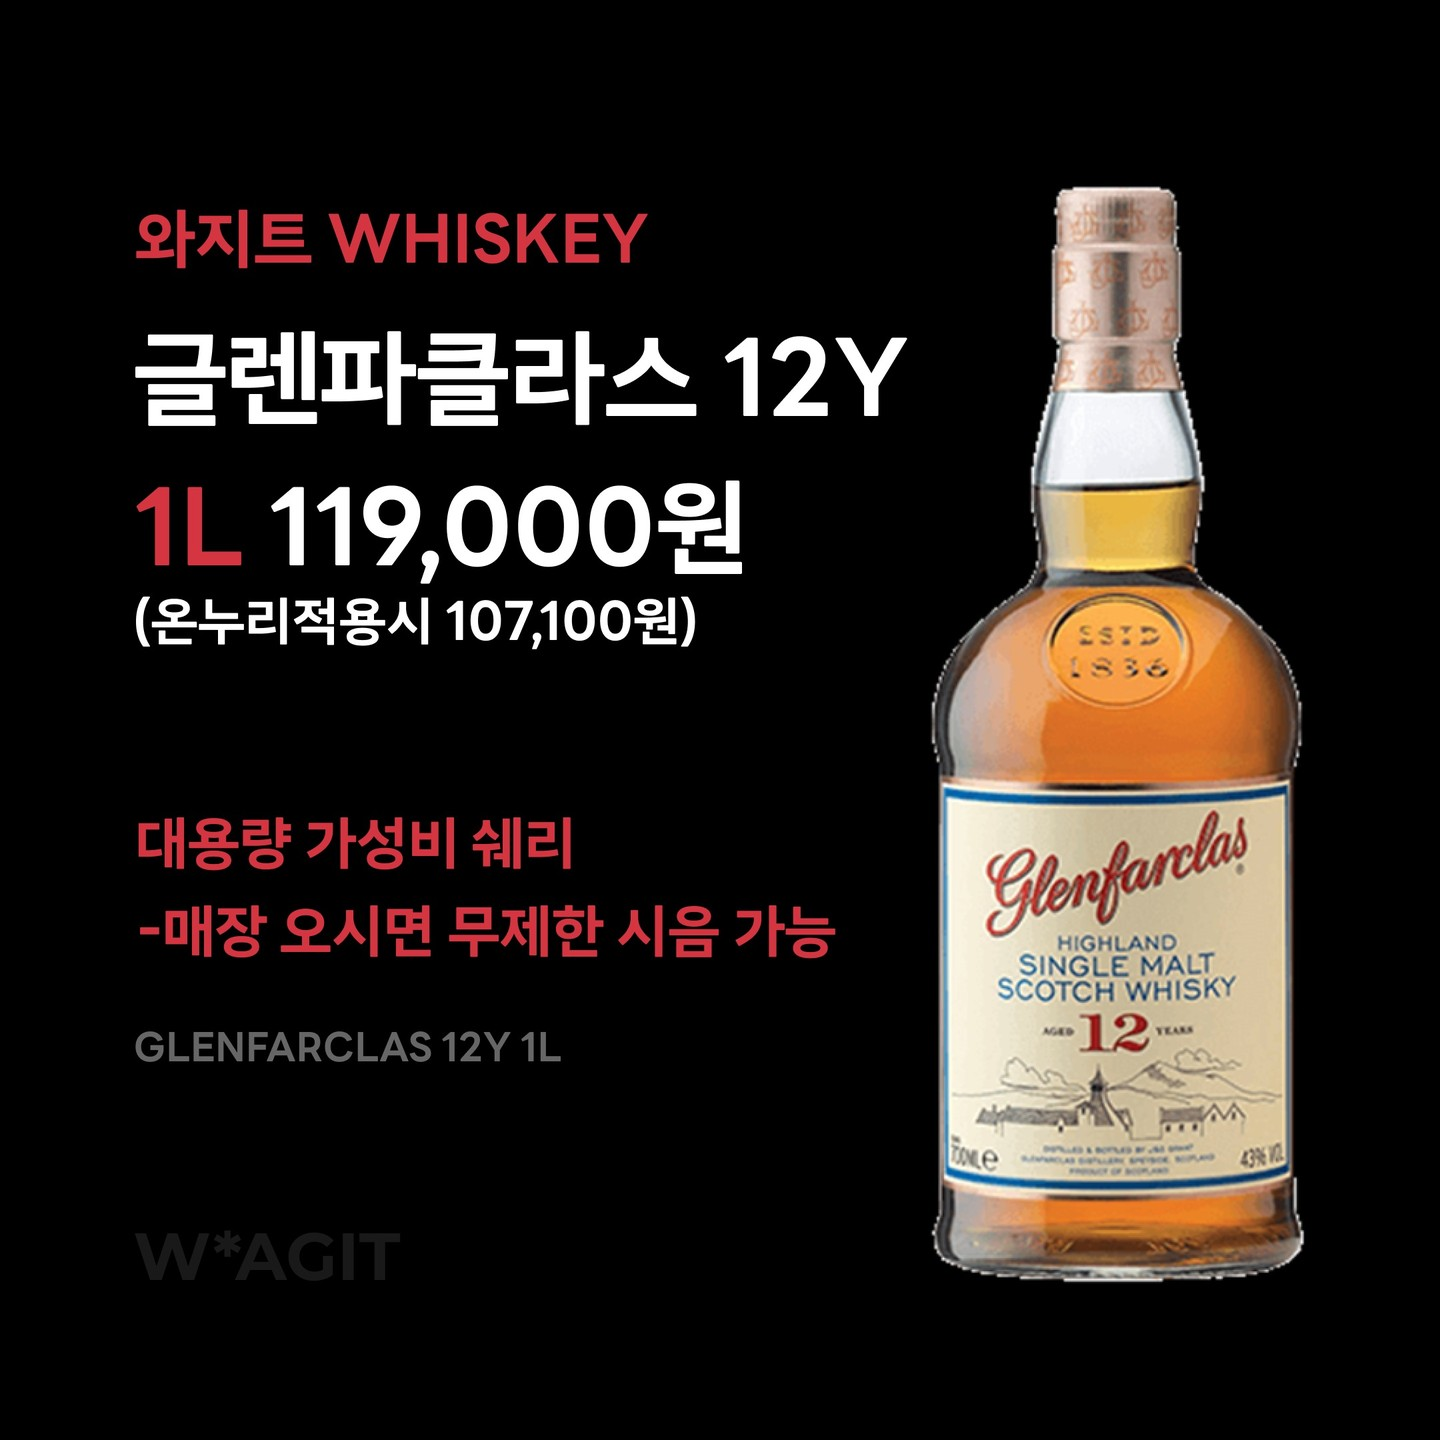alcohol: (920, 175, 1309, 1294)
